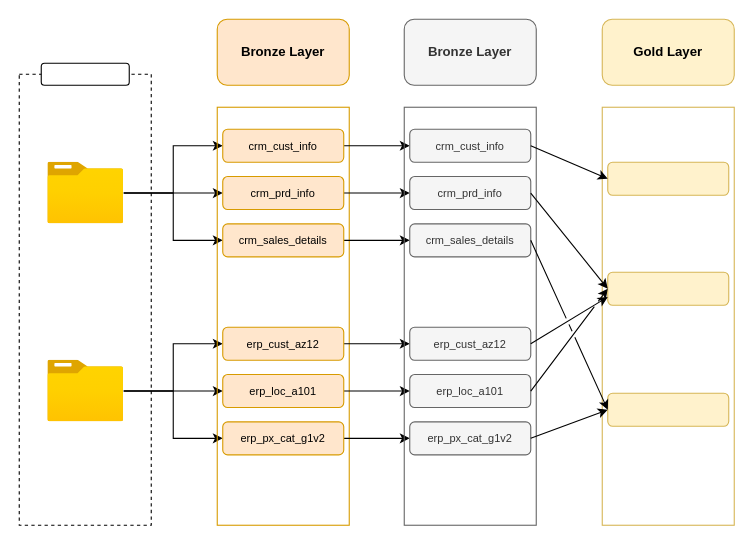
Image size: 754x545. Some labels were removed from this diagram. The shapes that lost their labels are listed below. From the top down, each one's box as (x1, y1, x2, y2) in pixels, then its label:
(40, 62, 129, 85): Sources
(47, 162, 123, 223): CRM
(607, 161, 729, 195): fact_sales
(607, 271, 729, 305): dim_customers
(47, 360, 123, 421): ERP
(607, 392, 729, 426): dim_products
